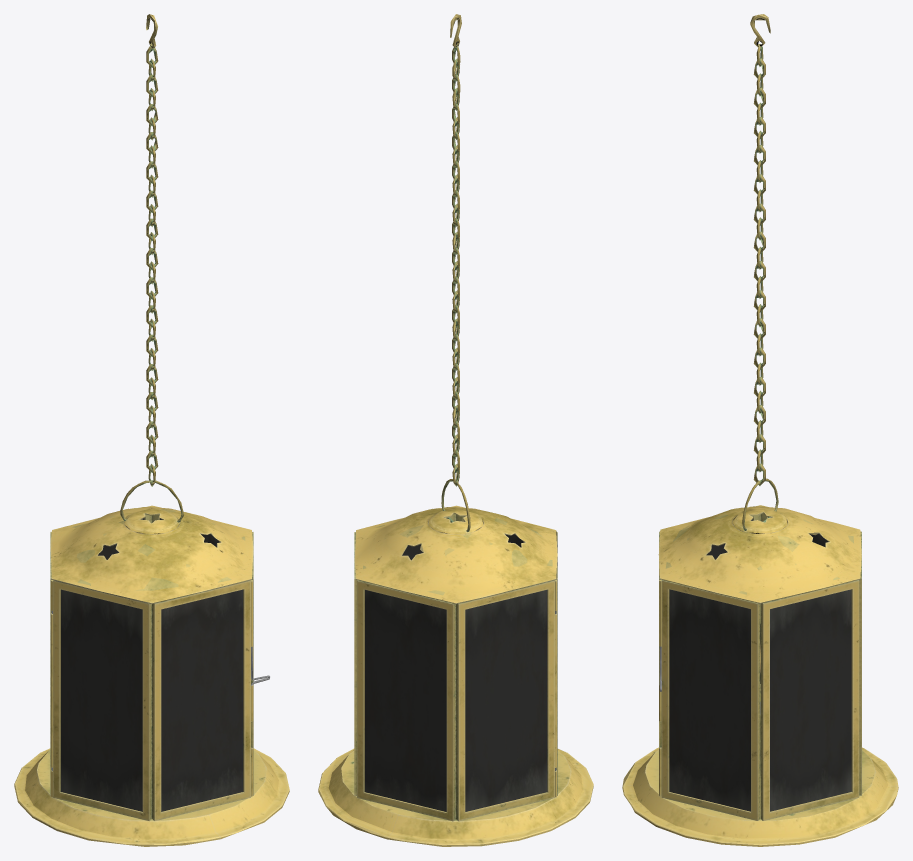
The model's file is brass_diya_lantern_lod2.glb.
3 renders of one model, left to right at view 1: azimuth 30°, elevation 25°; view 2: azimuth 150°, elevation 25°; view 3: azimuth 270°, elevation 25°, orthographic.
Visible parts, largest first — view 1: brass_diya_lantern, brass_diya_lantern_chain; view 2: brass_diya_lantern, brass_diya_lantern_chain; view 3: brass_diya_lantern, brass_diya_lantern_chain.
Part boxes in pixels (x1,y1,x2,y2): brass_diya_lantern: (14,505,289,846); brass_diya_lantern_chain: (146,14,158,486); brass_diya_lantern: (318,505,593,846); brass_diya_lantern_chain: (450,14,461,486); brass_diya_lantern: (622,505,898,846); brass_diya_lantern_chain: (750,14,770,485).
Size of the model in its own units: 0.123 by 0.3807 by 0.123.
Materials: 3 (3 with a texture image).
